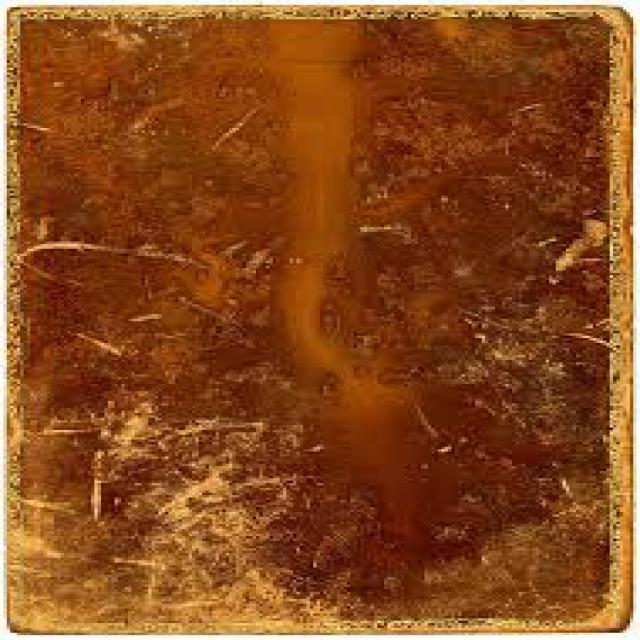Rotten surface: (80, 385, 332, 628), (492, 242, 617, 618)
